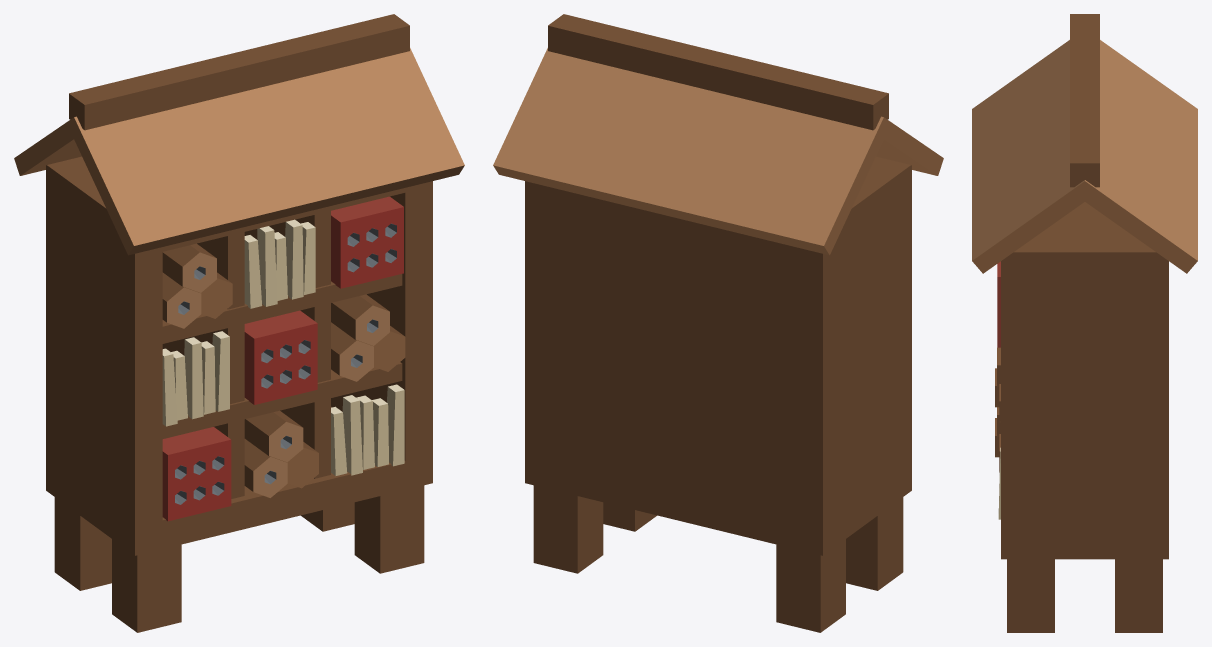
Rendered from FMS_Garden_Insect_Hotel.fbx.
3 renders of one model, left to right at view 1: azimuth 30°, elevation 25°; view 2: azimuth 150°, elevation 25°; view 3: azimuth 270°, elevation 25°, orthographic. The views are drawn at different scales.
Parts seen in each view (by area): view 1: FMS_Garden_Insect_Hotel_Body; view 2: FMS_Garden_Insect_Hotel_Body; view 3: FMS_Garden_Insect_Hotel_Body.
Part boxes in pixels (<box>): FMS_Garden_Insect_Hotel_Body: <box>14,14,464,632</box>; FMS_Garden_Insect_Hotel_Body: <box>493,14,943,632</box>; FMS_Garden_Insect_Hotel_Body: <box>972,14,1197,632</box>.
Size of the model in its own units: 0.6 by 0.8805 by 0.3769.
1 material, 1 textured.
